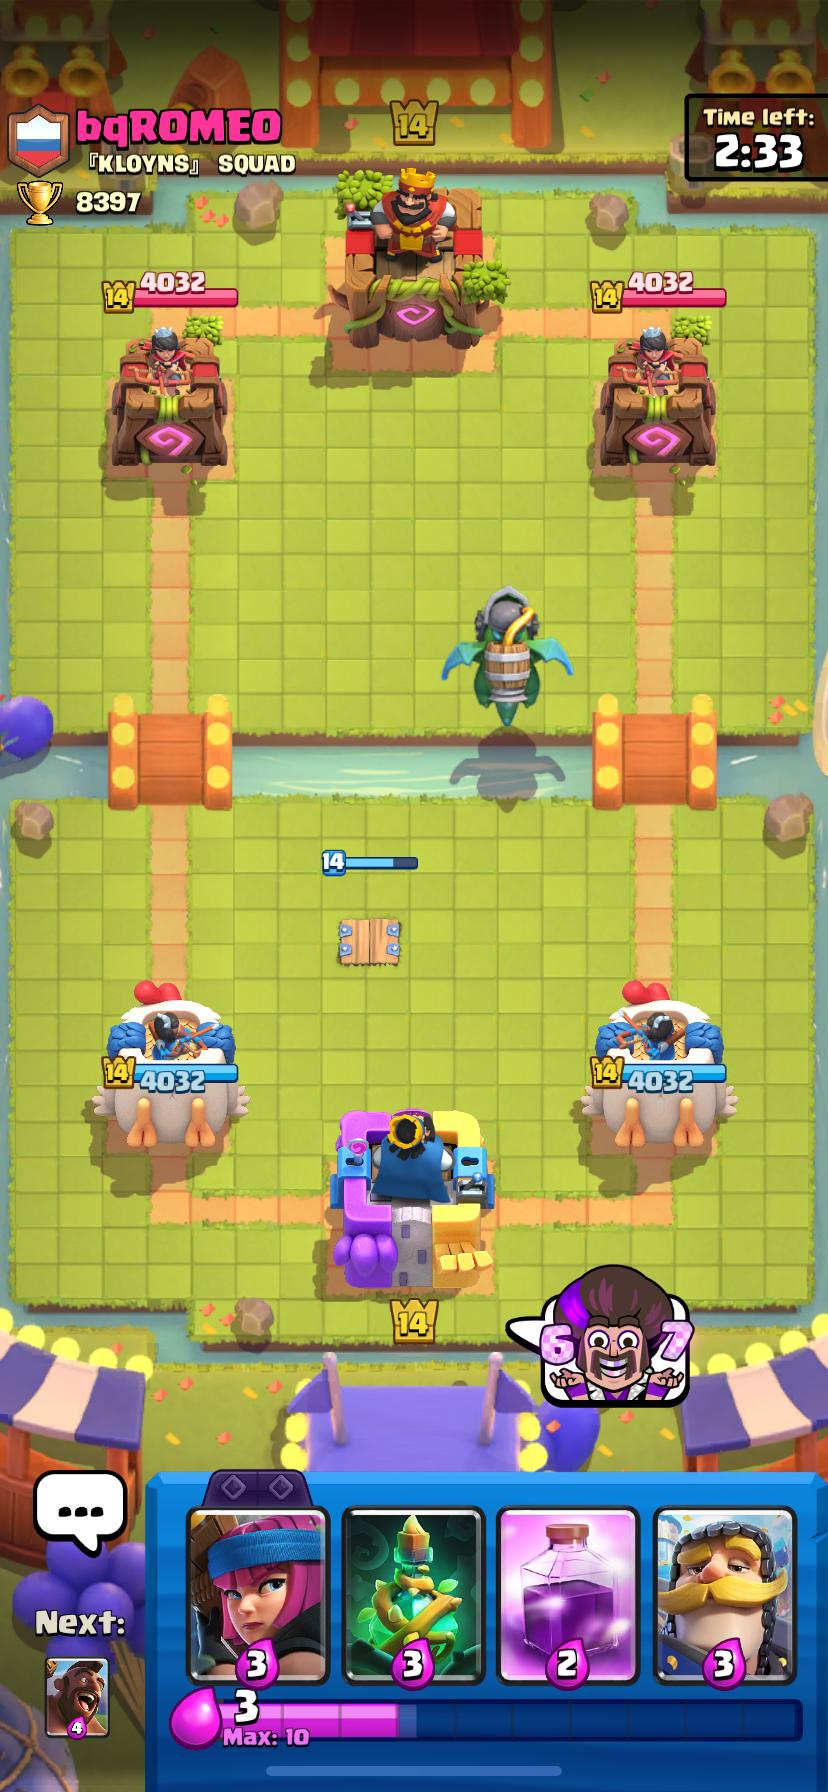EKingTower: (345, 168, 481, 347)
EnemyPrincessTower: (111, 327, 226, 466), (602, 327, 715, 465)
OInfernoDrag: (471, 587, 541, 726)
OTesla: (337, 918, 400, 966)
OwnKingTower: (331, 1109, 493, 1293)
OwnPrincessTower: (583, 982, 735, 1146), (93, 998, 247, 1147)
